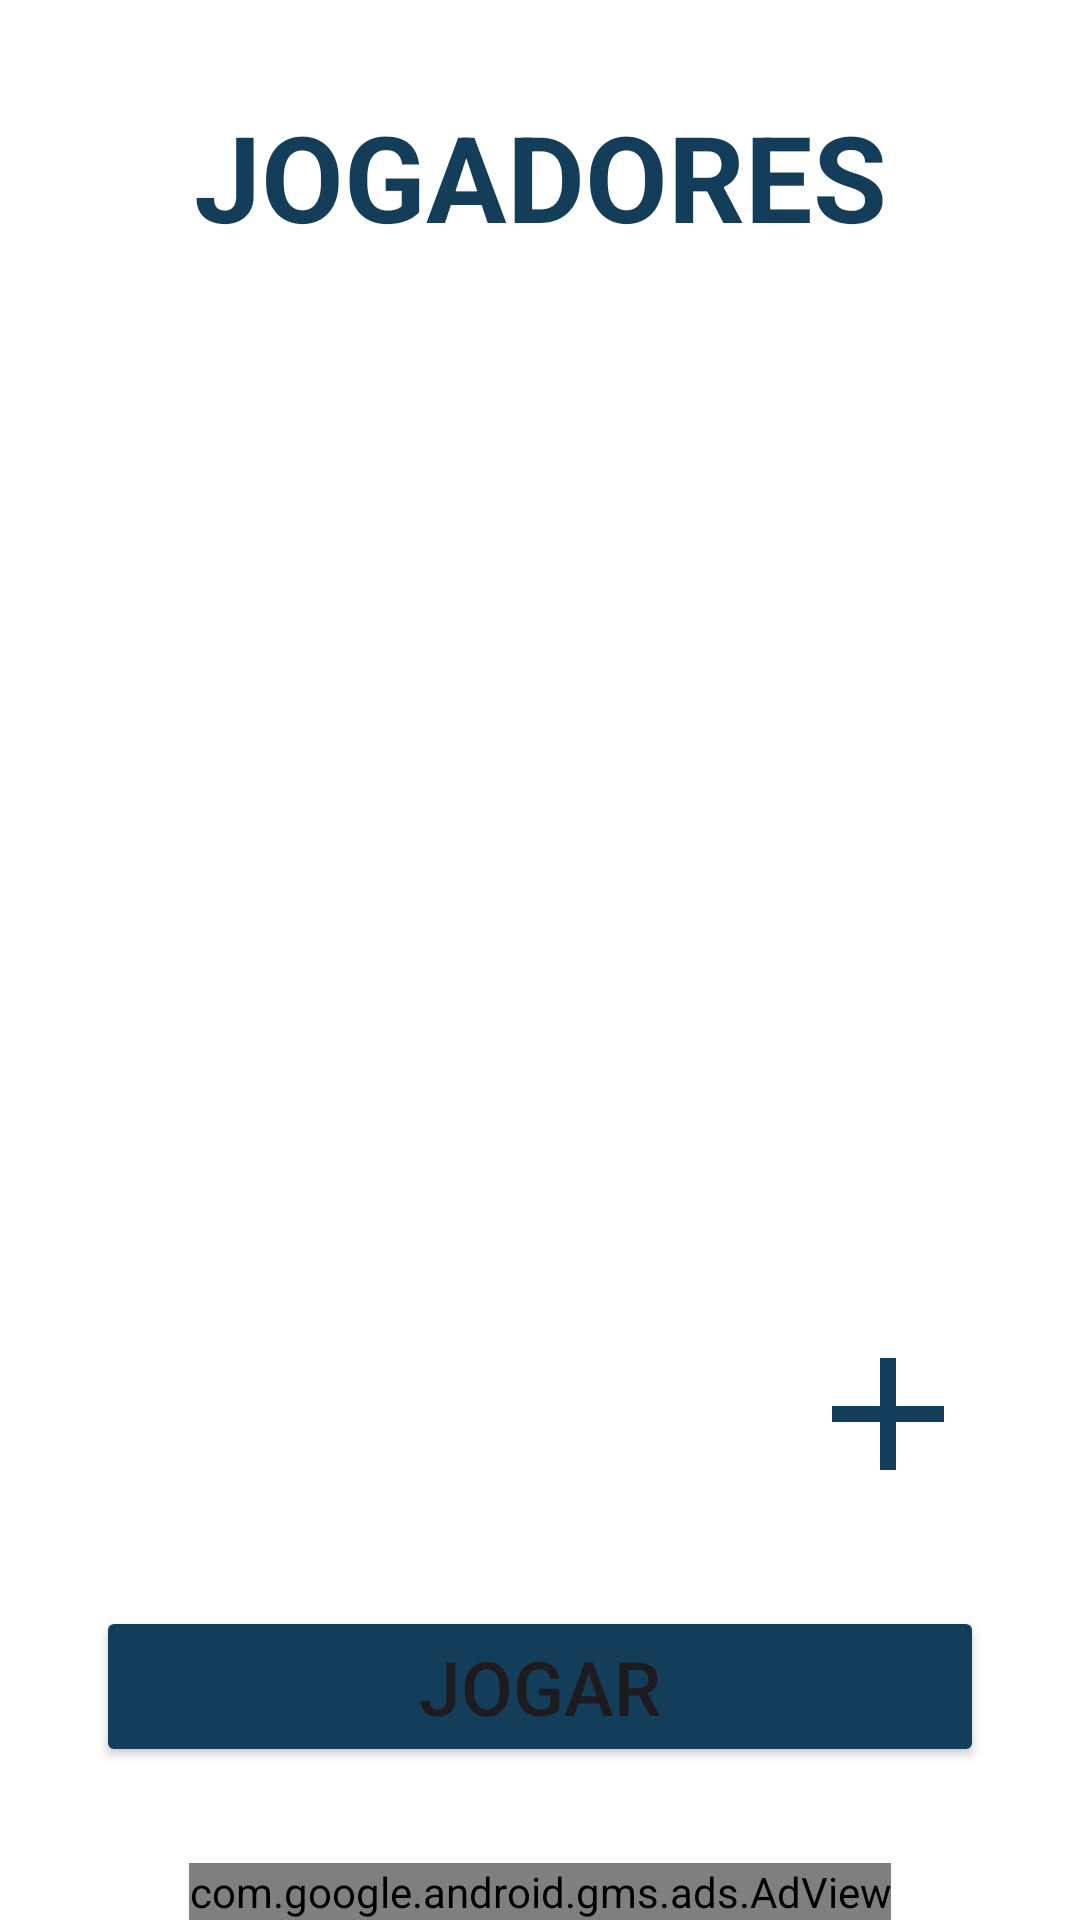

Locate icon controls on the screen. Image size 1080 × 1920, boxes as bbox(x1, y1, x2, y2).
add: bbox(832, 1358, 944, 1470)
